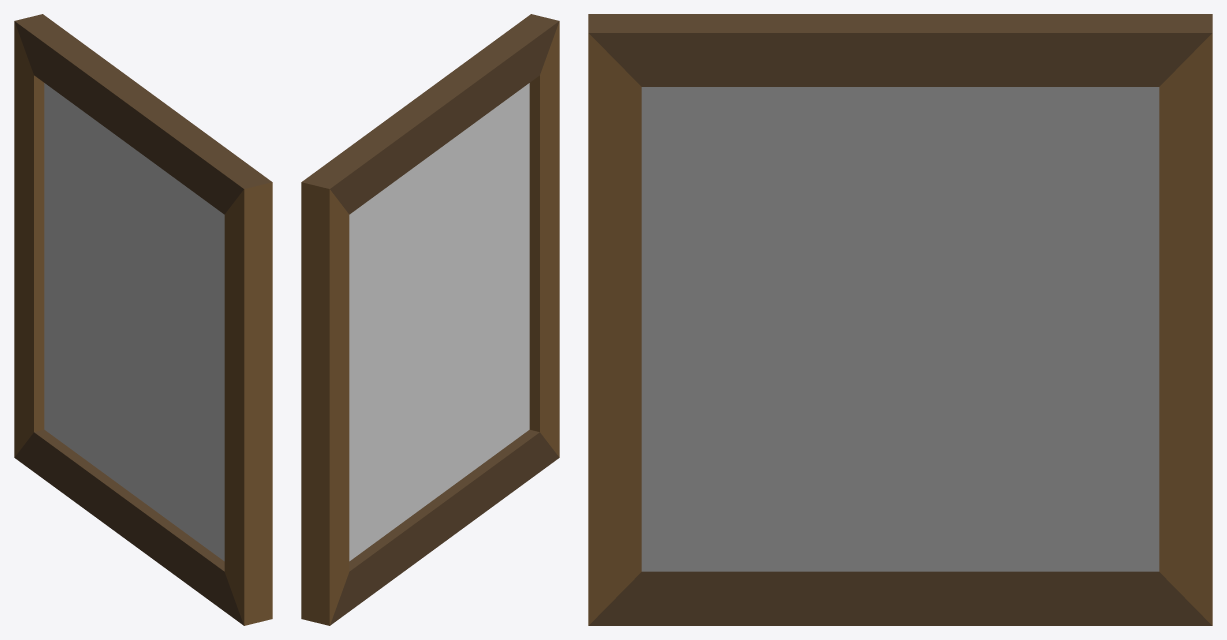
Rendered from PictureFrame.fbx.
3 views of the same model, side by side, from view 1: azimuth 30°, elevation 25°; view 2: azimuth 150°, elevation 25°; view 3: azimuth 270°, elevation 25° (orthographic). The views are drawn at different scales.
Parts seen in each view (by area): view 1: pCube196; view 2: pCube196; view 3: pCube196.
Part boxes in pixels (x1,y1,x2,y2): pCube196: [14, 14, 272, 625]; pCube196: [301, 14, 559, 625]; pCube196: [588, 14, 1212, 625].
Size of the model in its own units: 0.0806 by 1.18 by 1.13.
